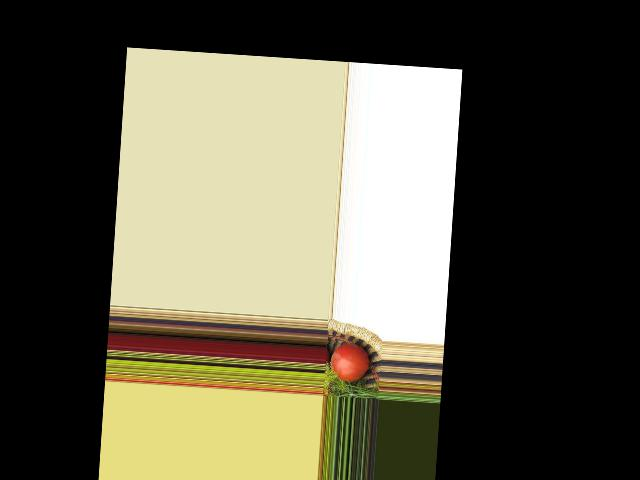tomato: (329, 342, 370, 384)
